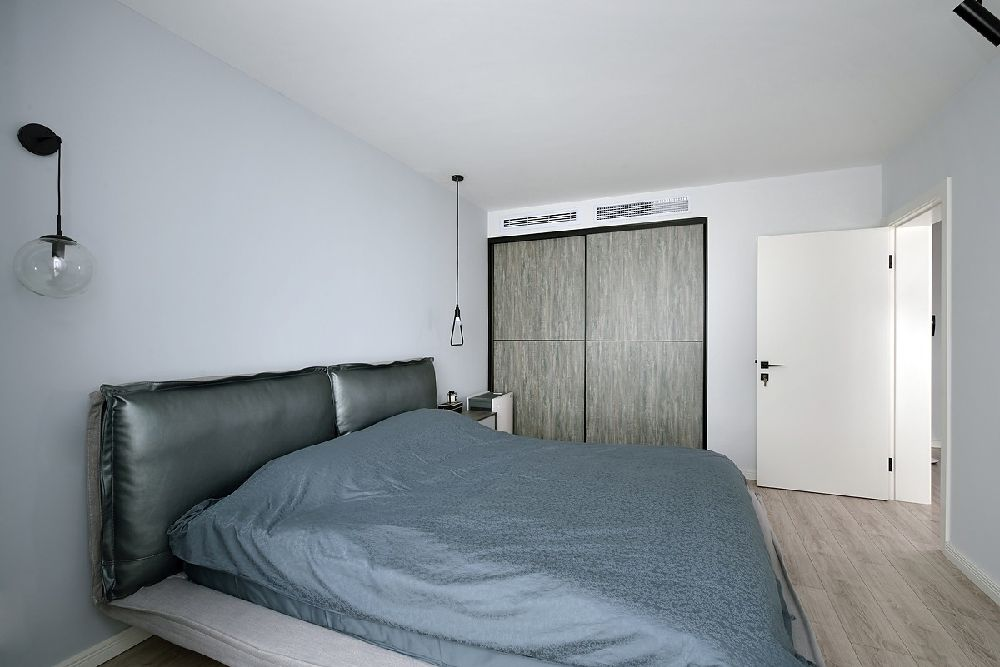床: (97, 392, 808, 667)
灯: (9, 119, 89, 304), (449, 172, 467, 352)
